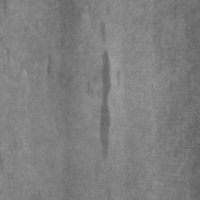inclusion: (88, 19, 119, 164), (43, 51, 60, 87)
